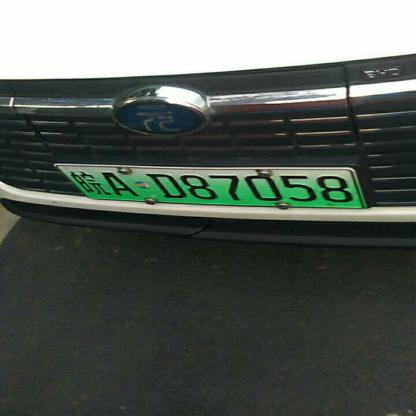lp: (55, 165, 88, 208)
